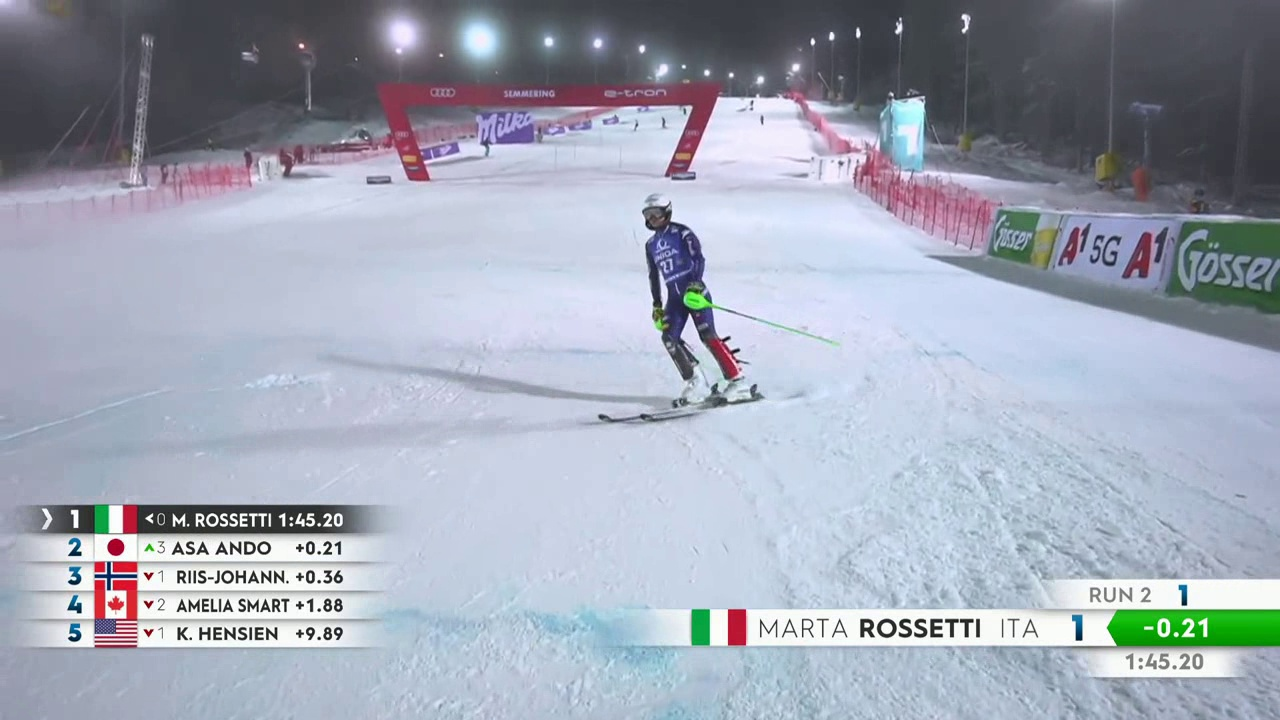a1: (1123, 225, 1171, 287), (1058, 221, 1094, 270)
audi: (426, 86, 458, 103)
goesser: (1187, 231, 1275, 311), (987, 206, 1042, 265)
milka: (473, 113, 536, 145)
